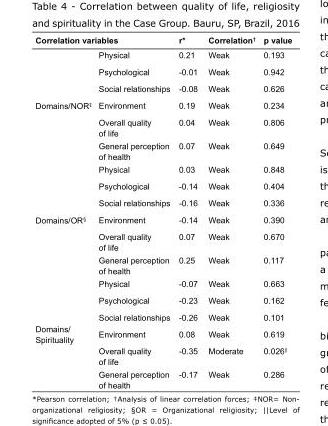table: (34, 35, 291, 389)
table column: (94, 35, 173, 389), (34, 35, 94, 389), (202, 35, 258, 389), (258, 35, 291, 389), (173, 35, 202, 389)
table row: (34, 227, 291, 253), (34, 341, 291, 367), (34, 113, 291, 138), (34, 138, 291, 162), (34, 253, 291, 276), (34, 367, 291, 389), (34, 62, 291, 79), (34, 79, 291, 96), (34, 96, 291, 113), (34, 177, 291, 194), (34, 210, 291, 227), (34, 291, 291, 308), (34, 308, 291, 325), (34, 194, 291, 210), (34, 325, 291, 341), (34, 47, 291, 62), (34, 162, 291, 177), (34, 276, 291, 291), (34, 35, 291, 47)
table spanning cell: (34, 47, 94, 162), (34, 162, 94, 276), (34, 276, 94, 389), (34, 35, 173, 47)
